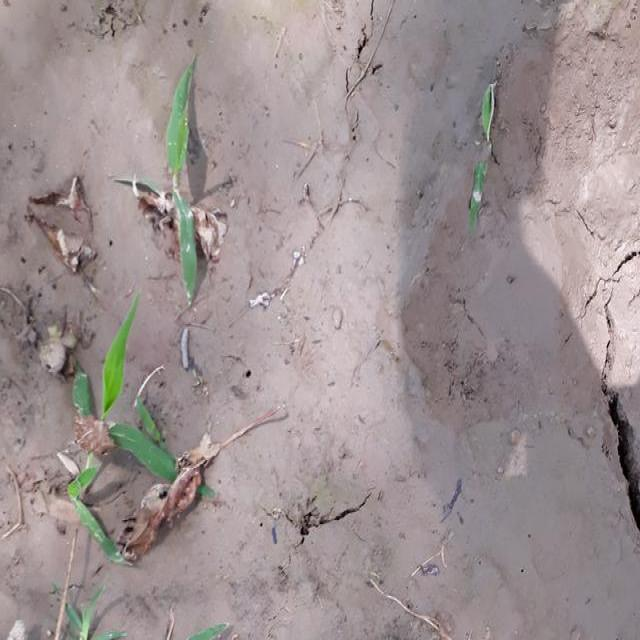weed: (122, 45, 215, 322)
